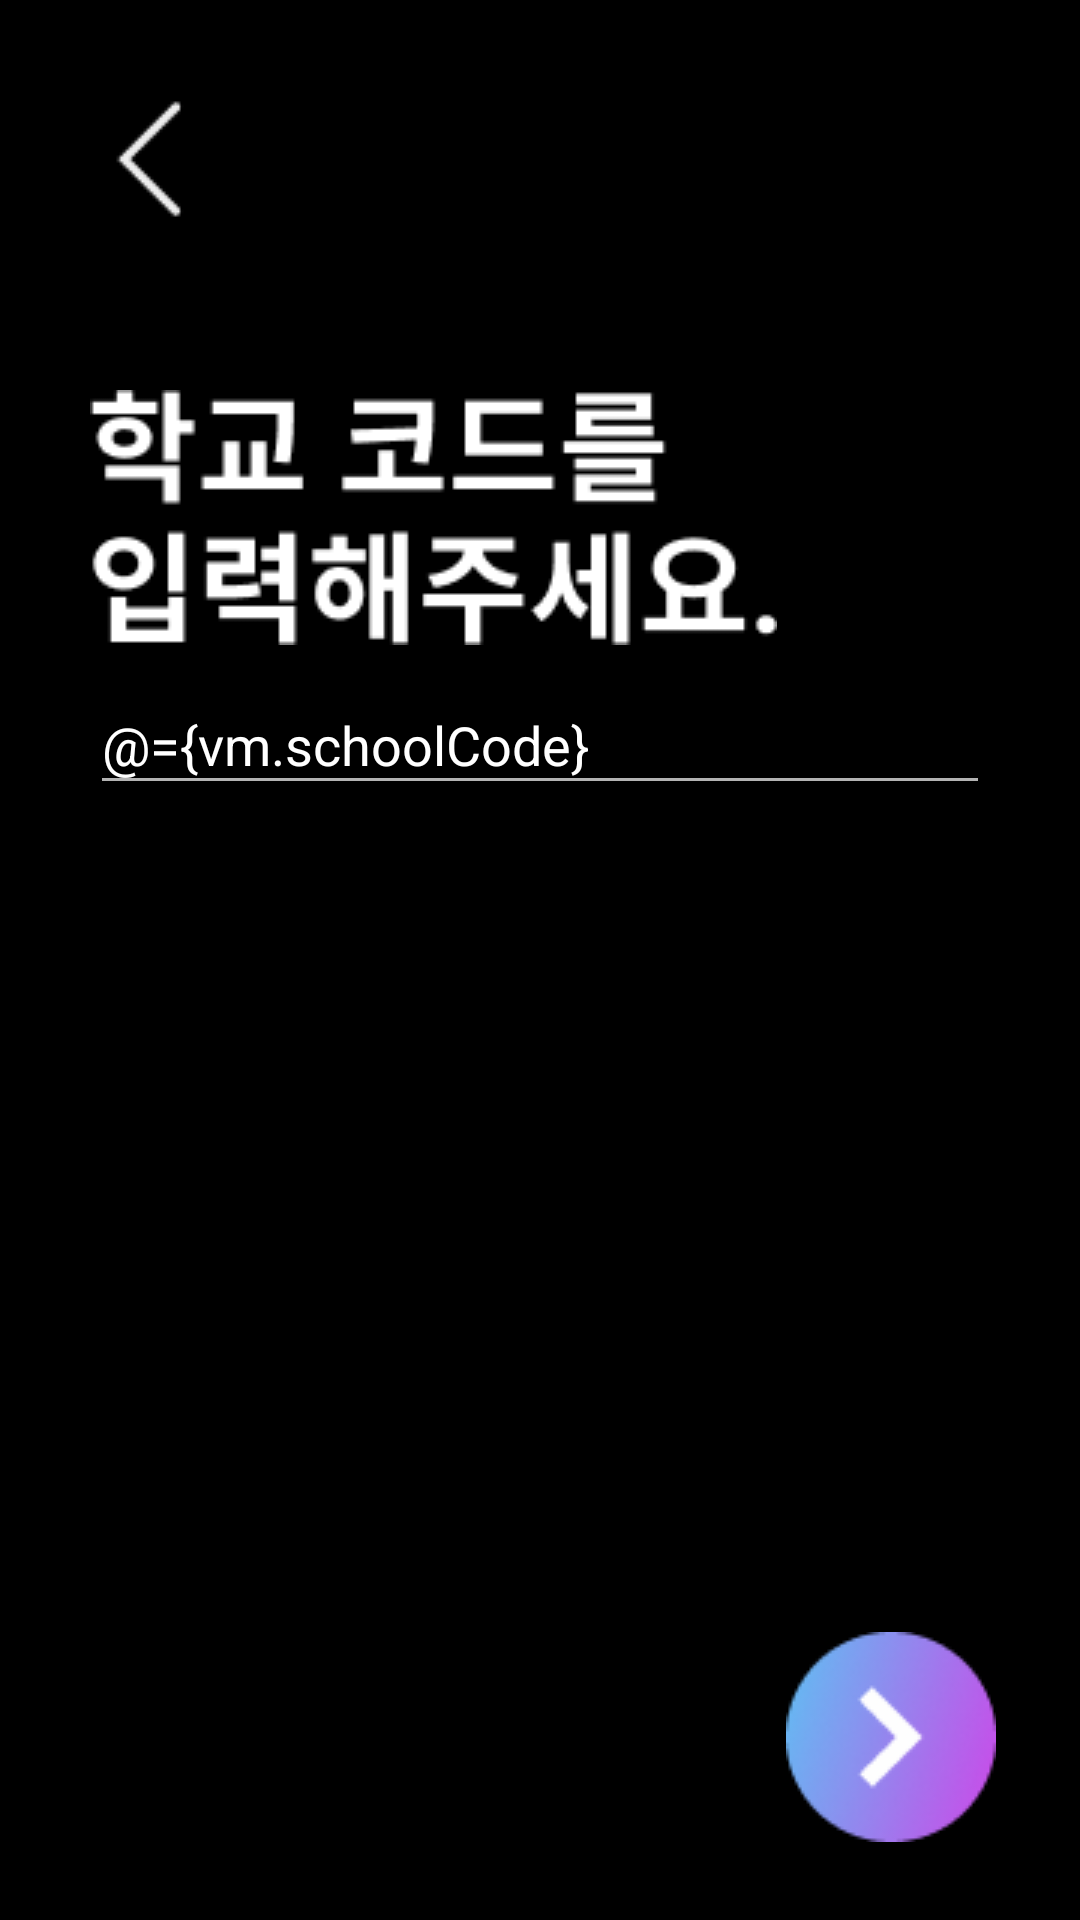

Point at icon controls on the screen. Image size 1080 x 1920, points as (x,y).
back arrow: (149,159)
forward: (891,1737)
